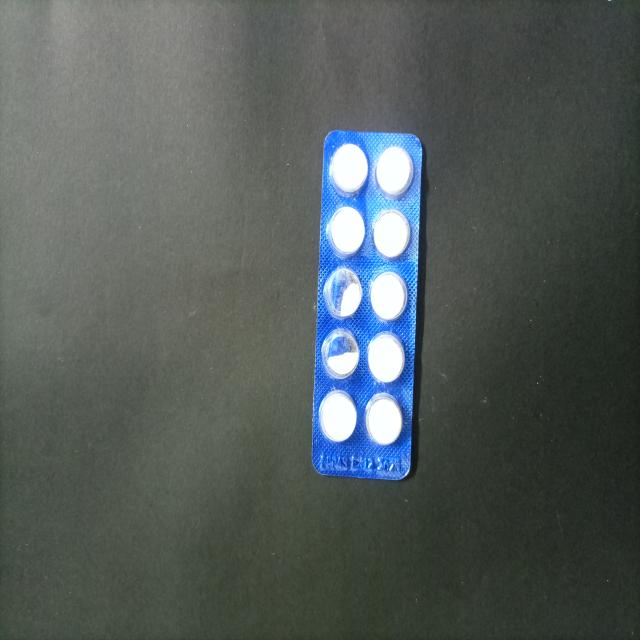defect: (321, 264, 364, 322), (319, 327, 362, 382)
